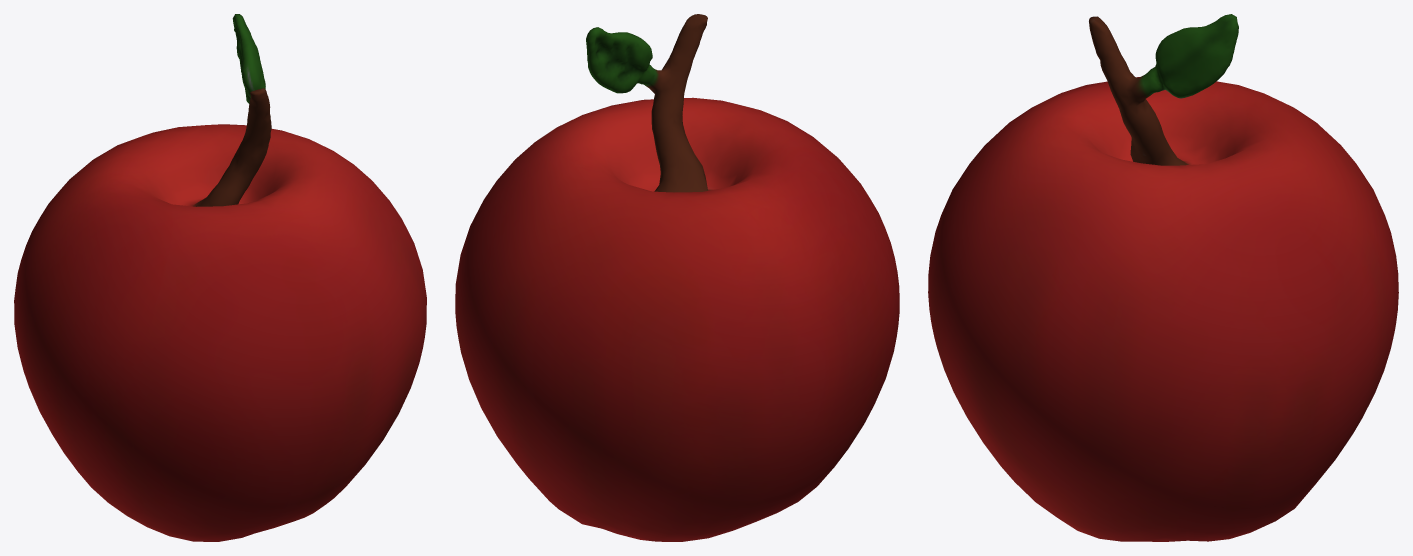
File: apple.obj
3 views of the same model, side by side, from view 1: azimuth 30°, elevation 25°; view 2: azimuth 150°, elevation 25°; view 3: azimuth 270°, elevation 25° (orthographic). The views are drawn at different scales.
Visible parts, largest first — view 1: apple; view 2: apple; view 3: apple.
Boxes of the visible parts, bbox=[...] form: apple: bbox=[14, 14, 426, 541]; apple: bbox=[455, 14, 899, 541]; apple: bbox=[928, 14, 1398, 541].
Size of the model in its own units: 0.9287 by 1.13 by 0.9262.
Materials: 1 (1 with a texture image).
